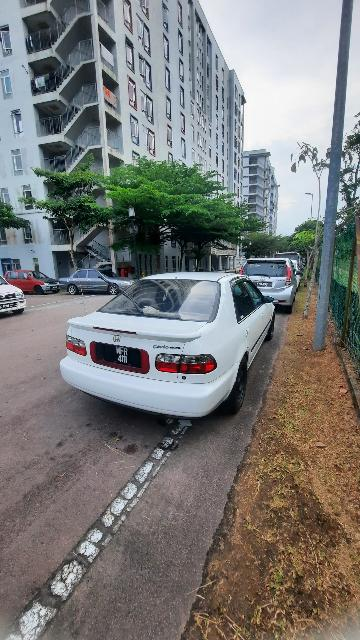License_Plate: (94, 344, 145, 372)
car: (59, 267, 287, 423)
